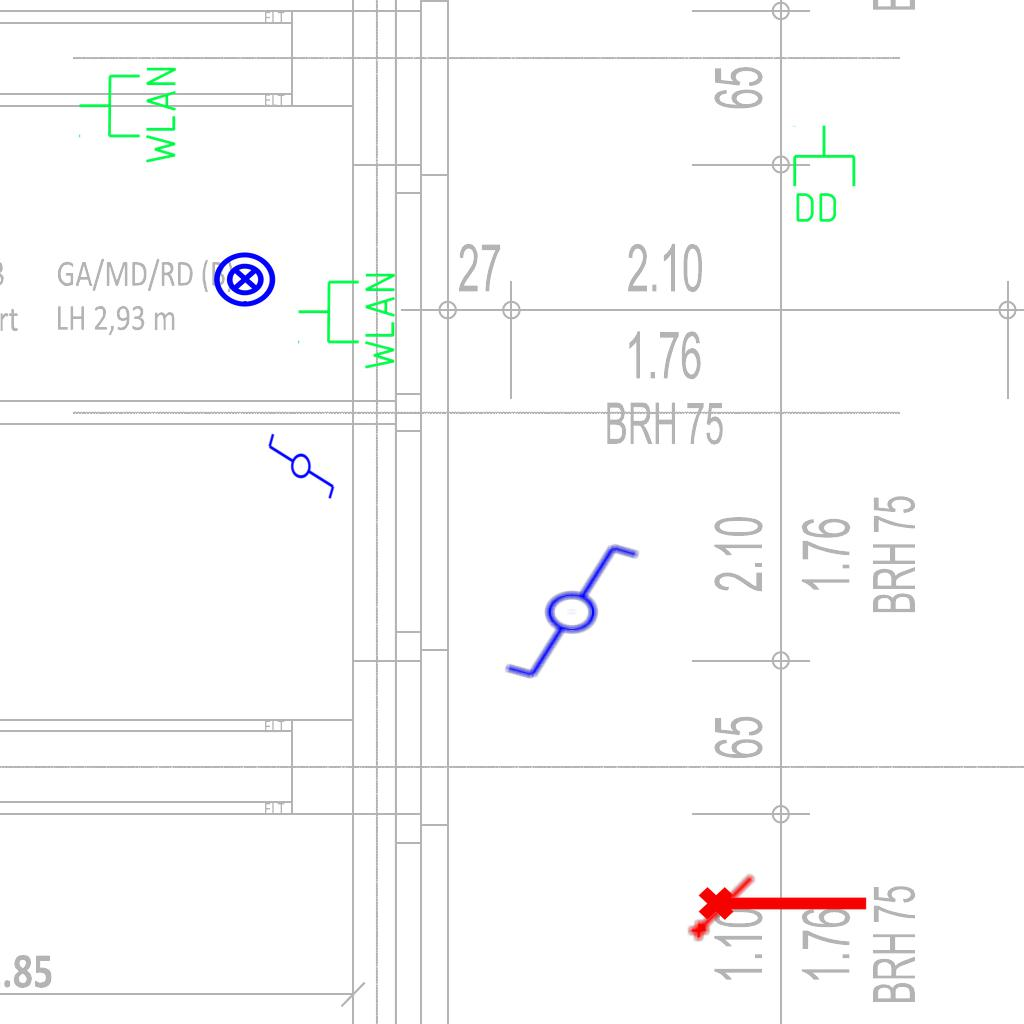ASR_Ansaugoeffnung: (696, 878, 872, 924), (682, 866, 762, 945)
Datenanschluss_zweifach: (789, 123, 858, 226)
Taster_beleuchtet: (212, 246, 278, 312)
WLAN: (295, 269, 399, 374), (76, 63, 180, 168)
Wechselschalter: (485, 538, 642, 682), (266, 423, 338, 501)
